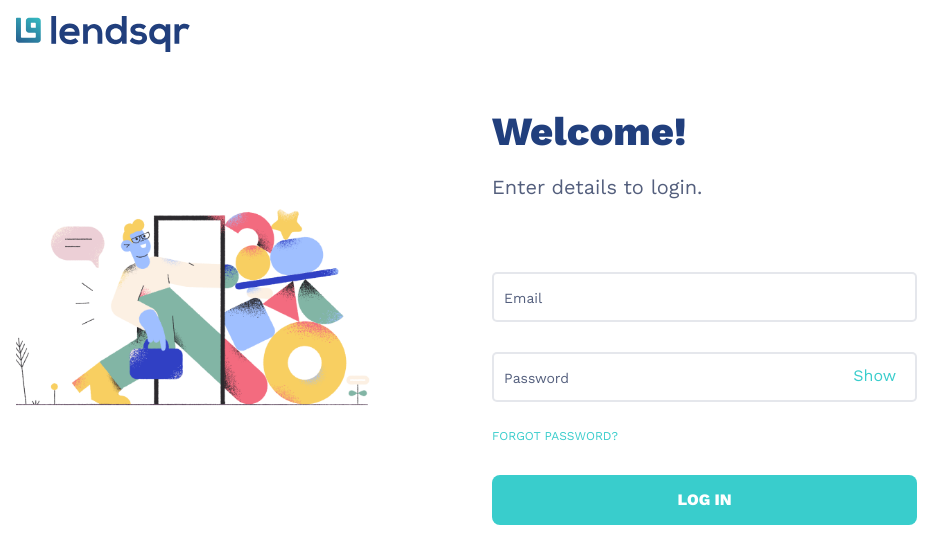
Test: Password Toggle Functionality
The image size is (934, 542).
Click the text "Show".
click(875, 376)  # box top-left (853, 366), bottom-right (896, 385)
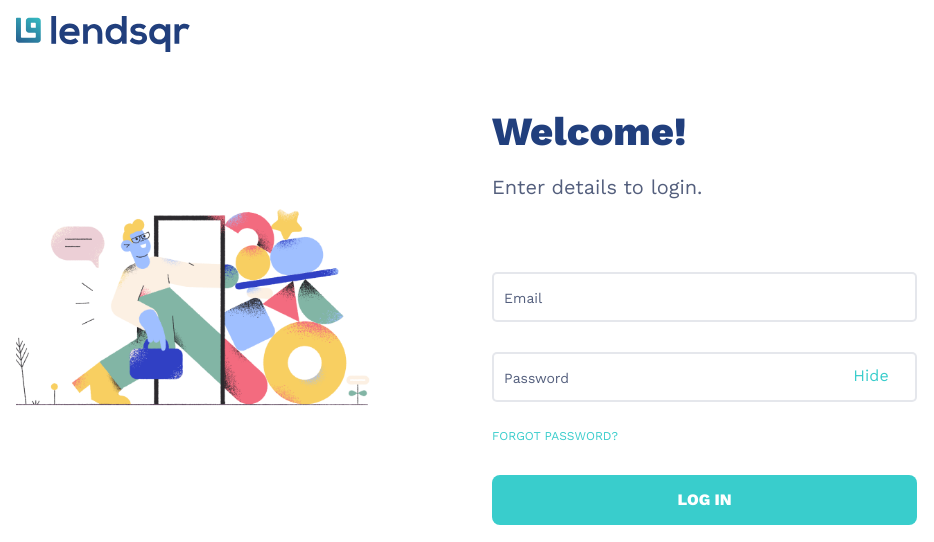
Expected: the text "Hide" is shown, top-left (853, 366), bottom-right (889, 385)
